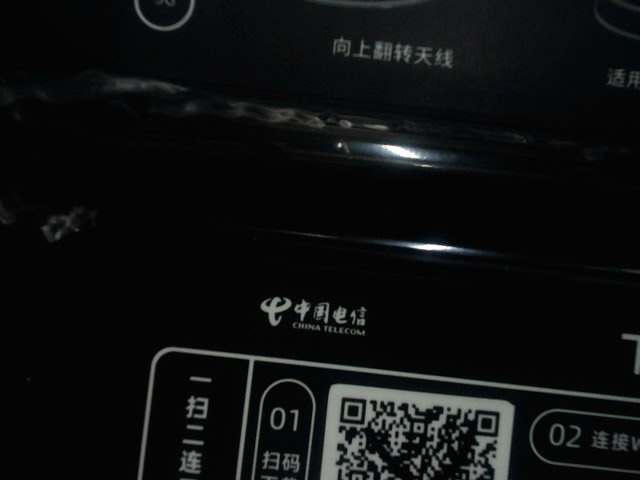AB_ChinaTelecom: (248, 289, 382, 338)
